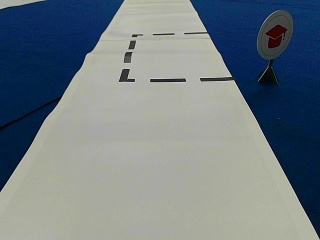school: (257, 9, 291, 59)
